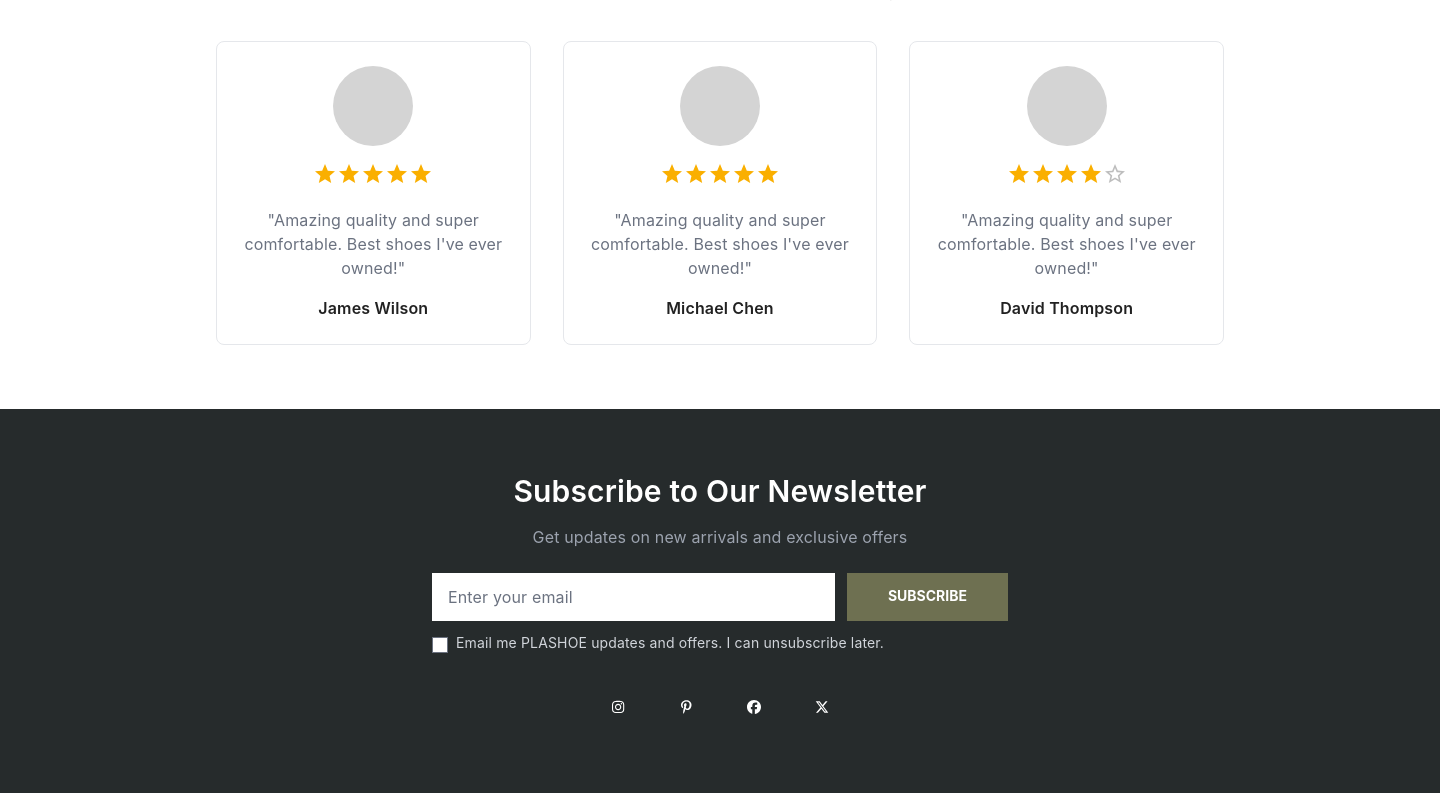
Test case: submits newsletter email with explicit consent
The image size is (1440, 793).
(page scrolled)
Type "subscriber@example.com" into the field labelled "Enter your email" at (633, 597), box x1=432 y1=573 x2=835 y2=621
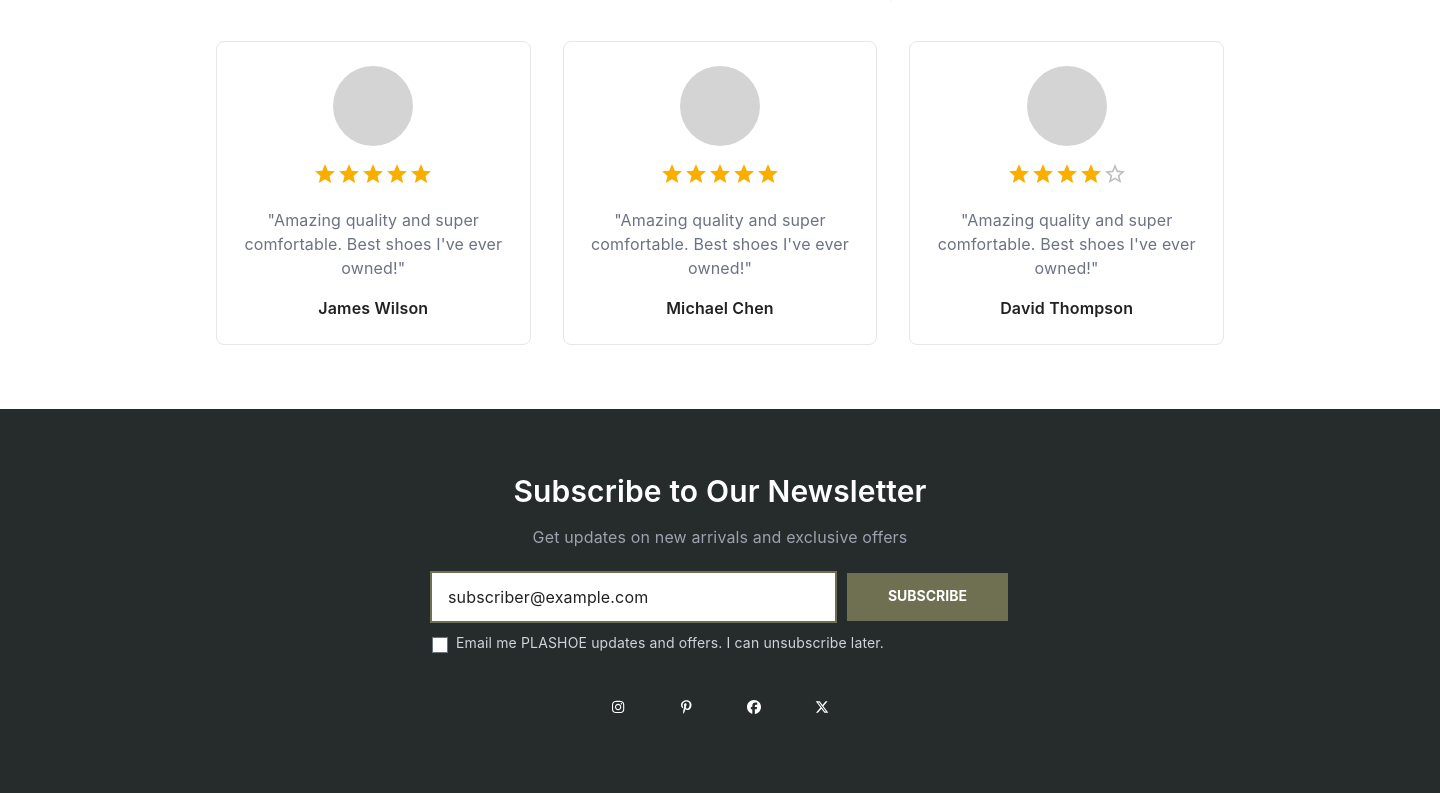
Click the checkbox labelled "Email me PLASHOE updates" at (440, 645), box x1=432 y1=637 x2=448 y2=653
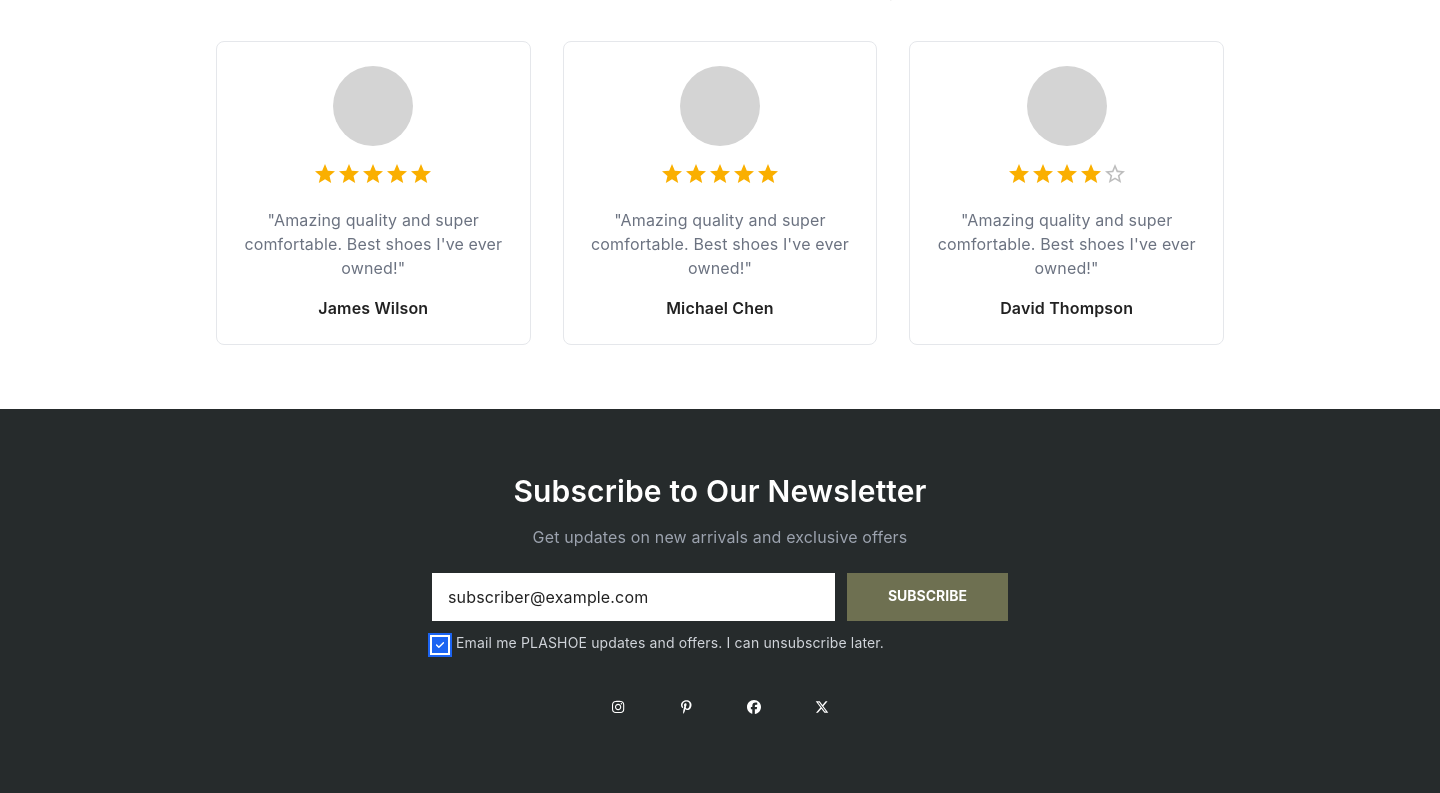
Click the button "SUBSCRIBE" at (927, 597), box x1=847 y1=573 x2=1008 y2=621
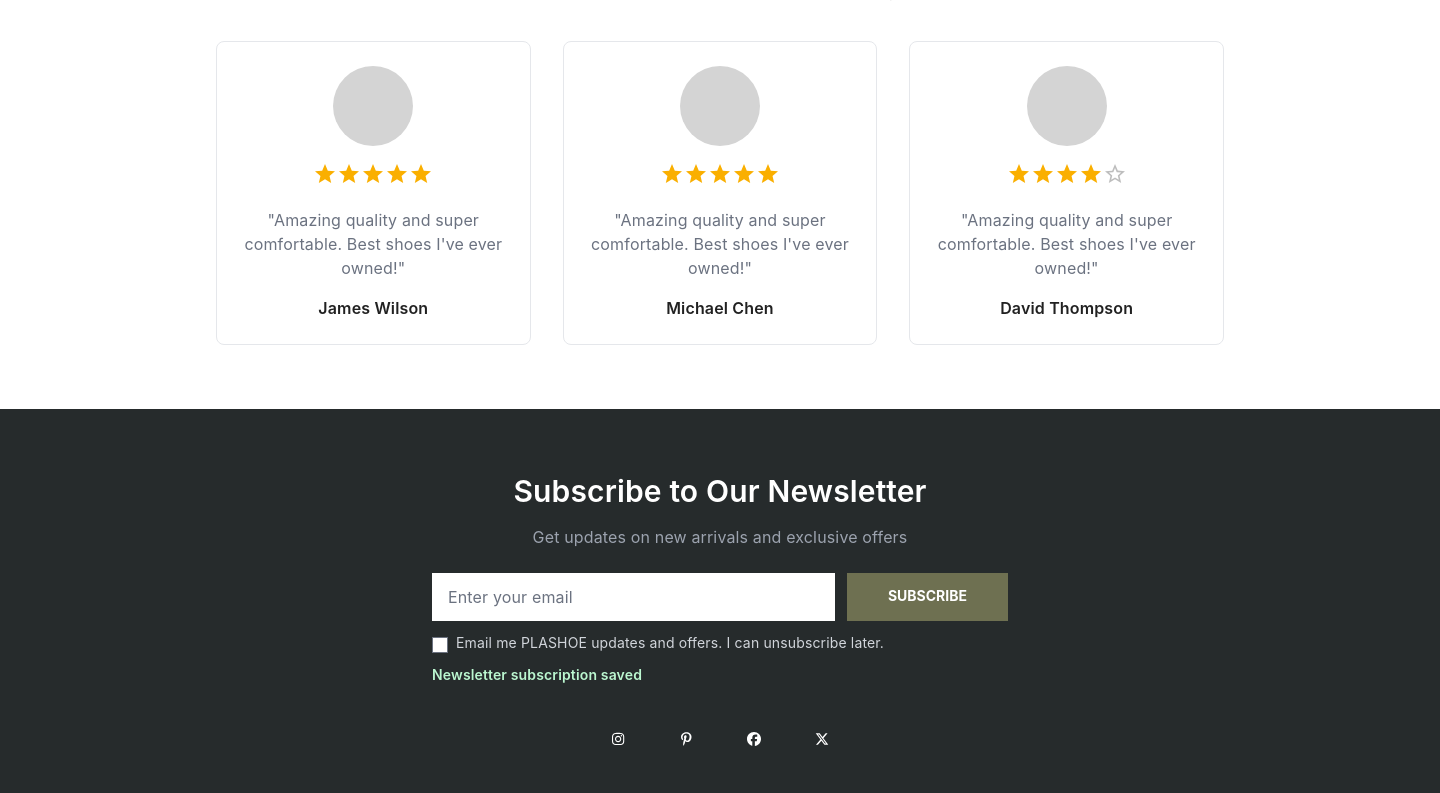
Expected: the text "Newsletter subscription saved" is shown, x1=432 y1=666 x2=642 y2=683
Expected: the field labelled "Enter your email" is empty, x1=432 y1=573 x2=835 y2=621
